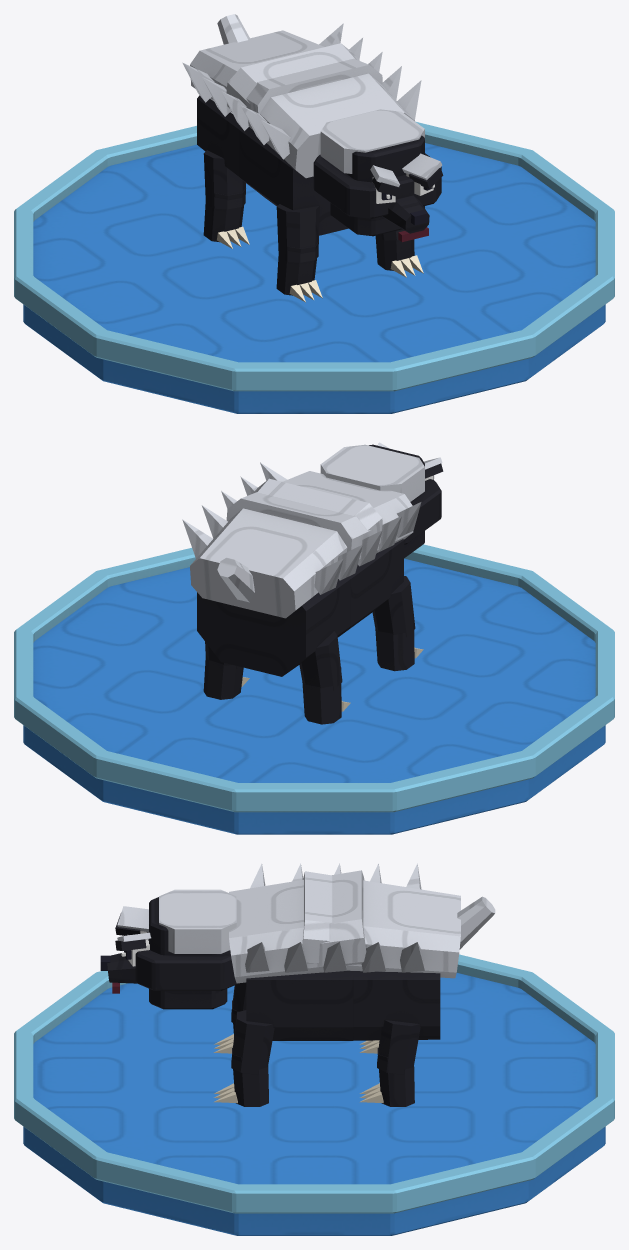
The model's file is CapeRatel.fbx.
3 renders of one model, top to bottom at view 1: azimuth 30°, elevation 25°; view 2: azimuth 150°, elevation 25°; view 3: azimuth 270°, elevation 25°, orthographic.
Visible parts, largest first — view 1: Art_CapeRatel_Stand, Art_CapeRatel_Body, Art_CapeRatel_Head, Art_CapeRatel_Tail; view 2: Art_CapeRatel_Stand, Art_CapeRatel_Body, Art_CapeRatel_Head, Art_CapeRatel_Tail; view 3: Art_CapeRatel_Stand, Art_CapeRatel_Body, Art_CapeRatel_Head, Art_CapeRatel_Tail.
Part boxes in pixels (x1,y1,x2,y2): Art_CapeRatel_Stand: (14,121,614,413); Art_CapeRatel_Body: (182,23,423,302); Art_CapeRatel_Head: (313,109,443,242); Art_CapeRatel_Tail: (217,14,249,44); Art_CapeRatel_Stand: (14,544,614,834); Art_CapeRatel_Body: (182,462,423,724); Art_CapeRatel_Head: (320,442,443,558); Art_CapeRatel_Tail: (217,557,254,602); Art_CapeRatel_Stand: (14,954,614,1235); Art_CapeRatel_Body: (213,863,460,1106); Art_CapeRatel_Head: (100,889,238,1009); Art_CapeRatel_Tail: (457,896,495,949).
Bounding box in the file's own units: 3.09 × 1.24 × 3.09.
